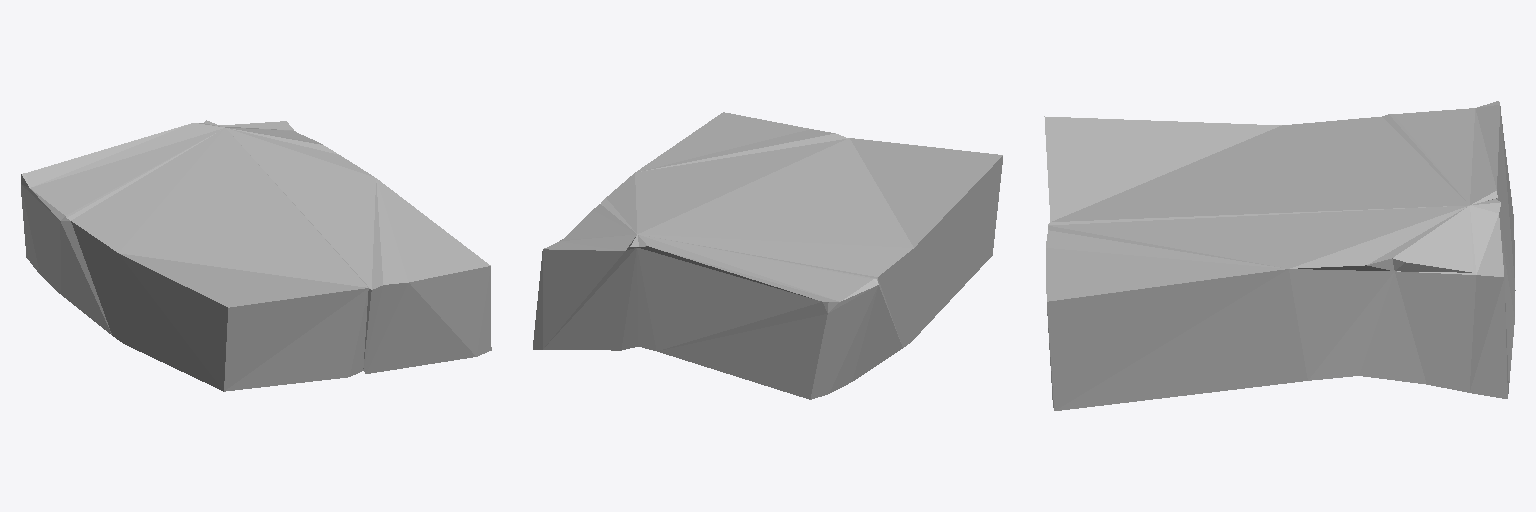
The robot description file, URDF, robot "root":
<?xml version='1.0' encoding='utf-8'?>
<robot name="root">
  <link name="link_001">
    <visual>
      <origin xyz="0 0 0" rpy="0 0 0" />
      <geometry>
        <mesh filename="0f9ed2cc4baaf91a55fde1a9f51fe1a8d828dcf399aa1eca1d1d85d4a4e0d2ed_scale_024.stl" scale="1.0000E+00 1.0000E+00 1.0000E+00" />
      </geometry>
      <material name="">
        <color rgba="7.50E-01 7.50E-01 7.50E-01 1" />
      </material>
    </visual>
    <collision>
      <origin xyz="0 0 0" rpy="0 0 0" />
      <geometry>
        <mesh filename="0f9ed2cc4baaf91a55fde1a9f51fe1a8d828dcf399aa1eca1d1d85d4a4e0d2ed_scale_024.stl" scale="1.0000E+00 1.0000E+00 1.0000E+00" />
      </geometry>
    </collision>
  </link>
</robot>

--- Render facts (derived) ---
The picture shows the robot from 3 angles, left to right: view 1: azimuth 30°, elevation 25°; view 2: azimuth 150°, elevation 25°; view 3: azimuth 270°, elevation 25°; orthographic projection.
Robot: root — 1 links, 0 joints (none); root link link_001; default pose: every joint at zero.
Links seen in each view (by area): view 1: link_001; view 2: link_001; view 3: link_001.
Link boxes in pixels (x1,y1,x2,y2): link_001: [21, 120, 491, 391]; link_001: [533, 112, 1002, 399]; link_001: [1044, 101, 1515, 410].
Bounding box of the posed robot: 0.0858 × 0.098 × 0.0353 m (x, y, z).
1 mesh visuals loaded from 1 distinct referenced files (1 binary STL).
